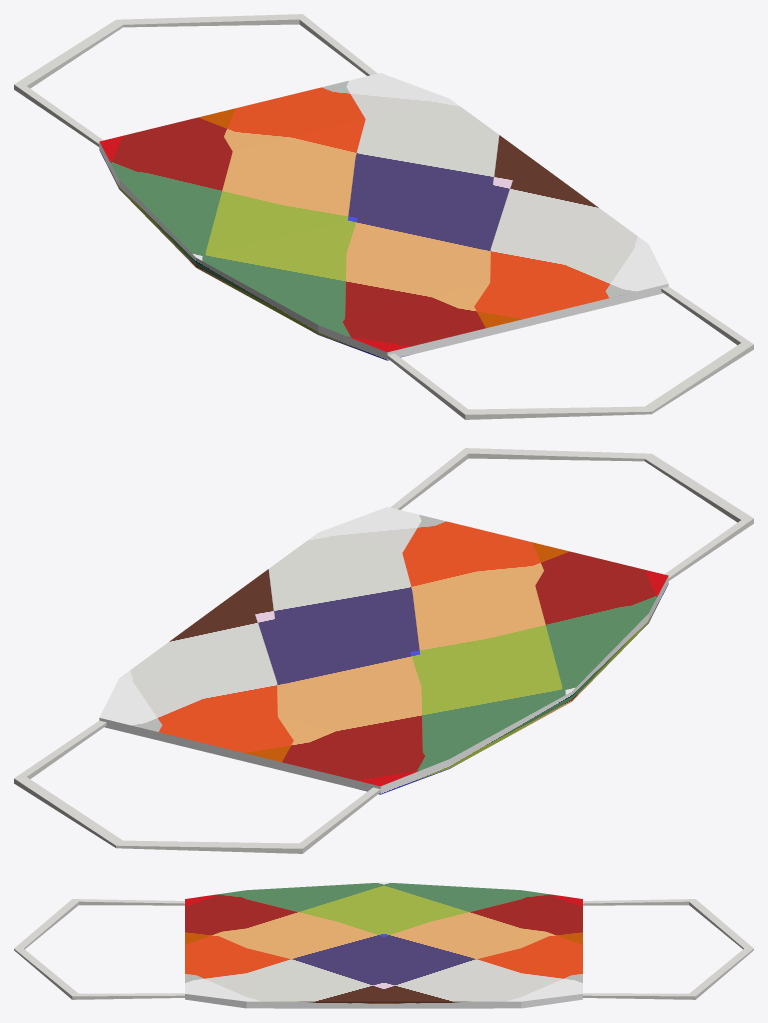
File: facemask-multi.fbx
The picture shows the model from 3 angles, top to bottom: view 1: azimuth 30°, elevation 25°; view 2: azimuth 150°, elevation 25°; view 3: azimuth 270°, elevation 25°; orthographic projection. The views are drawn at different scales.
Parts seen in each view (by area): view 1: Cube.002; view 2: Cube.002; view 3: Cube.002.
Boxes of the visible parts, <box> form: Cube.002: <box>14,14,753,419</box>; Cube.002: <box>14,448,753,853</box>; Cube.002: <box>14,882,753,1008</box>.
Bounding box in the file's own units: 142 × 3.91 × 372.
